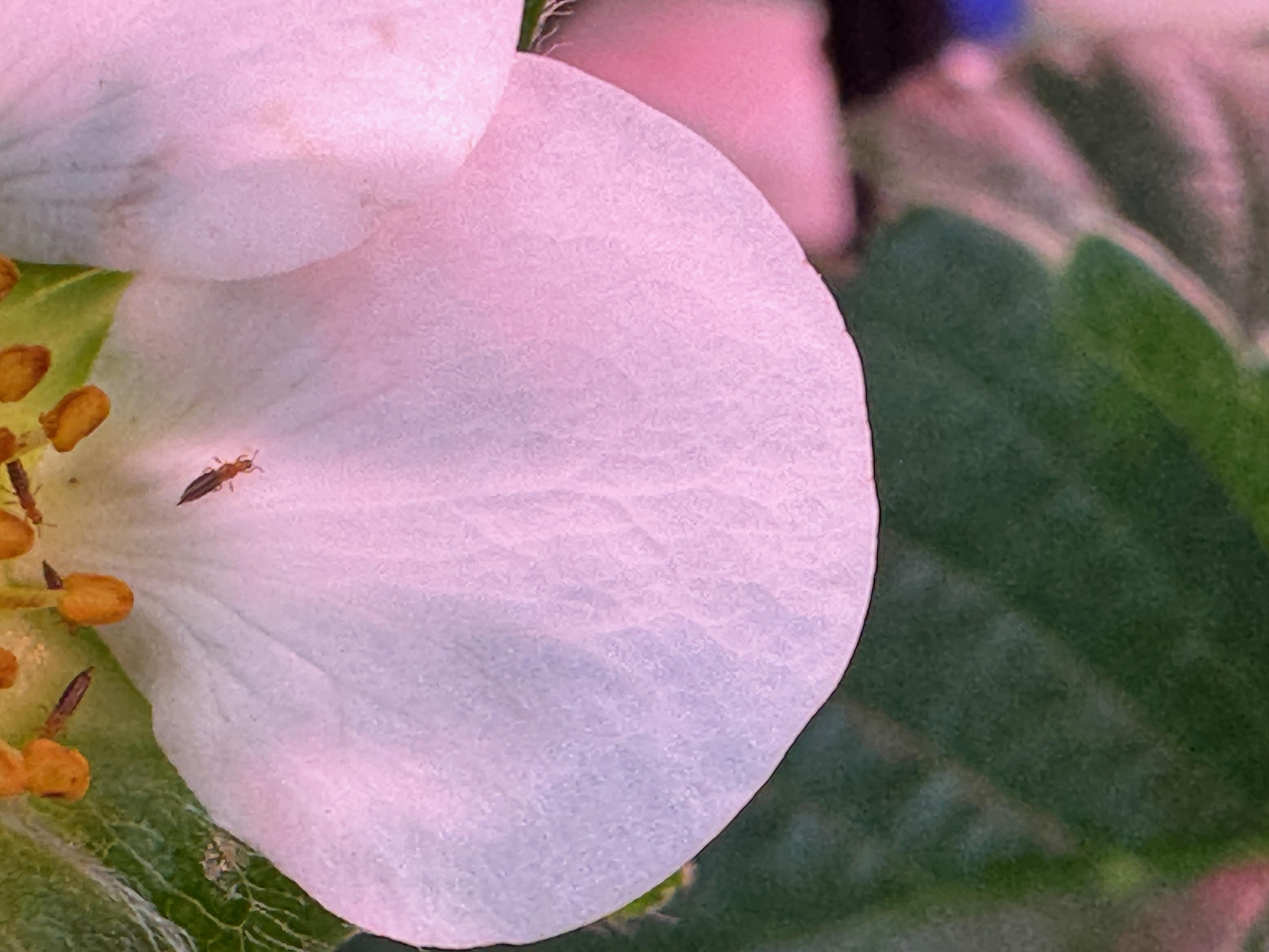tiny_pests: (161, 425, 283, 523), (0, 427, 60, 543)
